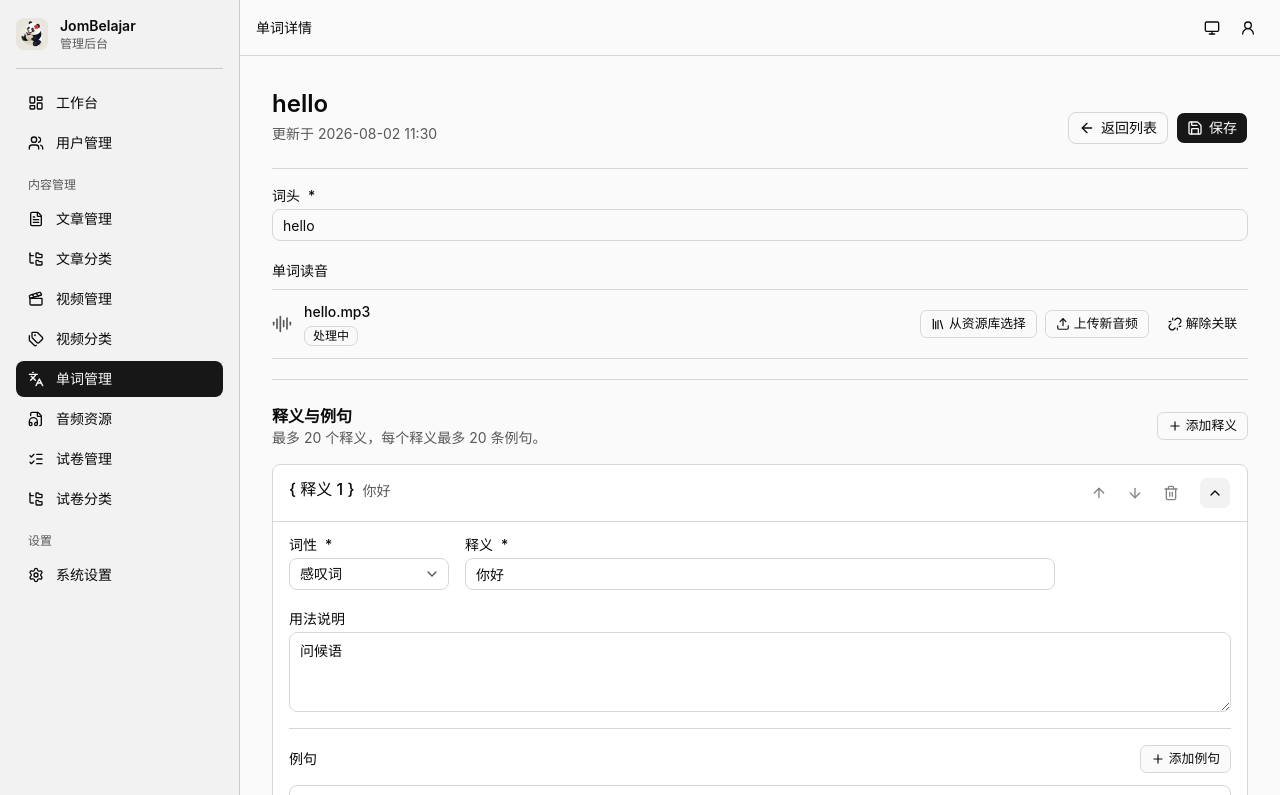
it: WordEditor › preserves child ids, audio id, and concurrency stamp when updating
The image size is (1280, 795).
Replace the text in the field labelled "词头 *" with "hi" at (760, 225), box top-left (272, 209), bottom-right (1248, 241)
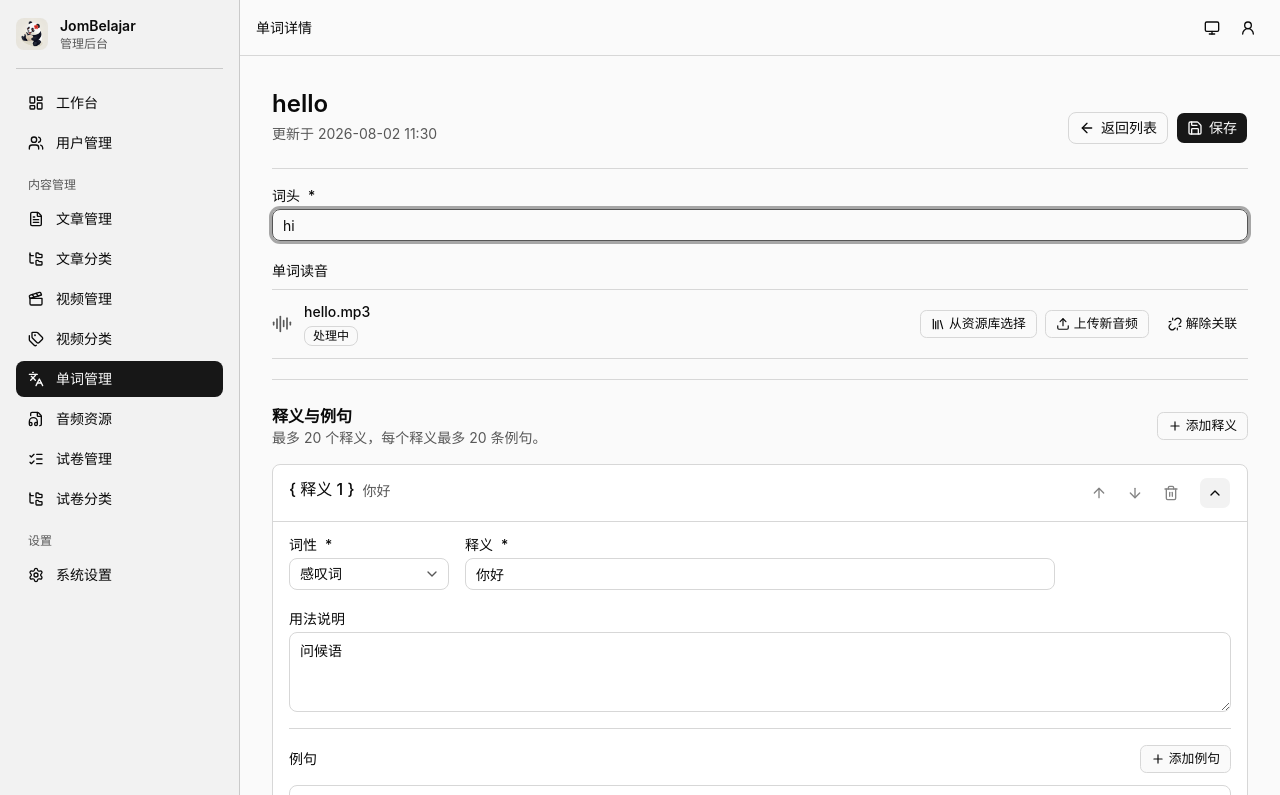
Click the button "保存".
click(1212, 128)  # box top-left (1176, 112), bottom-right (1248, 144)
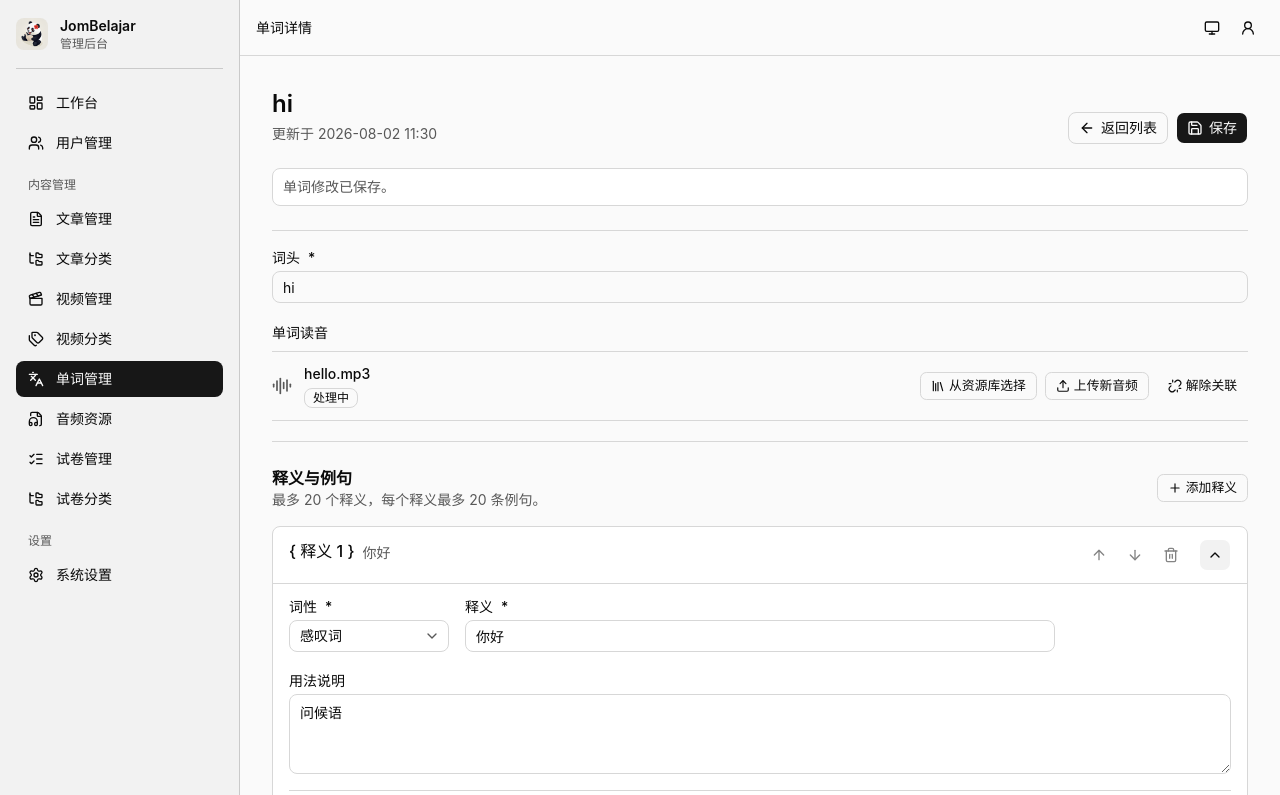
Expected: the text "单词修改已保存。" is shown, top-left (283, 178), bottom-right (395, 195)
